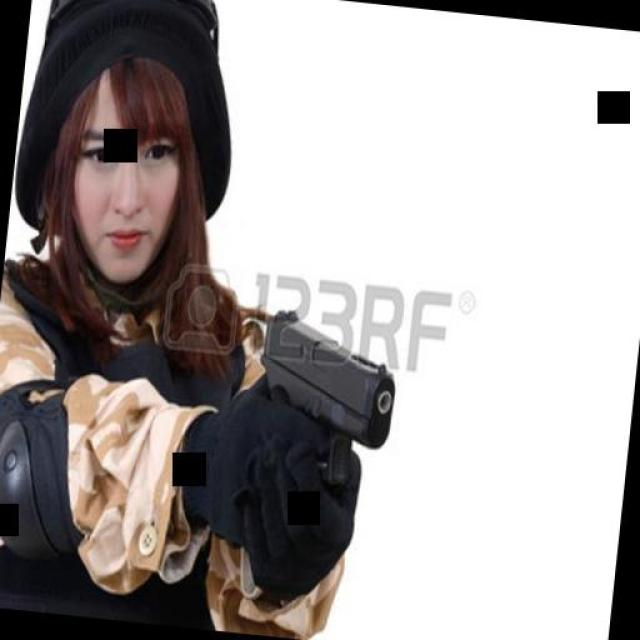gun: (244, 307, 401, 493)
